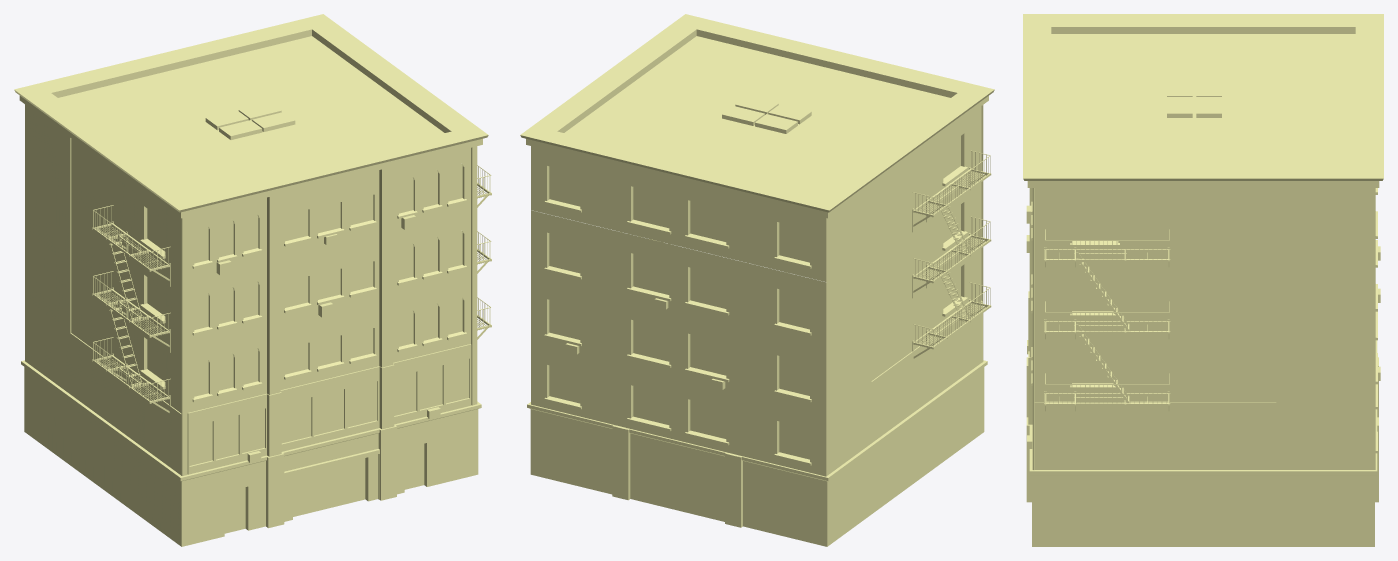
The model's file is MangaKa Props - M_R_City_Building_43.glb.
3 views of the same model, side by side, from view 1: azimuth 30°, elevation 25°; view 2: azimuth 150°, elevation 25°; view 3: azimuth 270°, elevation 25° (orthographic). The views are drawn at different scales.
Parts seen in each view (by area): view 1: M_R_City_Building_43_blueScreen, M_R_City_Building_43_Glass_blueScreen, M_R_City_Building_43_Staircase_blueScreen; view 2: M_R_City_Building_43_blueScreen, M_R_City_Building_43_Glass_blueScreen, M_R_City_Building_43_Staircase_blueScreen; view 3: M_R_City_Building_43_blueScreen, M_R_City_Building_43_Staircase_blueScreen, M_R_City_Building_43_Glass_blueScreen.
Part boxes in pixels (x1,y1,x2,y2): M_R_City_Building_43_blueScreen: (14, 14, 488, 546); M_R_City_Building_43_Glass_blueScreen: (147, 163, 468, 533); M_R_City_Building_43_Staircase_blueScreen: (92, 165, 491, 412); M_R_City_Building_43_blueScreen: (520, 14, 994, 546); M_R_City_Building_43_Glass_blueScreen: (549, 136, 960, 459); M_R_City_Building_43_Staircase_blueScreen: (629, 150, 991, 358); M_R_City_Building_43_blueScreen: (1023, 14, 1383, 546); M_R_City_Building_43_Staircase_blueScreen: (1044, 229, 1170, 411); M_R_City_Building_43_Glass_blueScreen: (1072, 206, 1118, 383).
Bounding box in the file's own units: 4.89 × 4.74 × 4.17.
